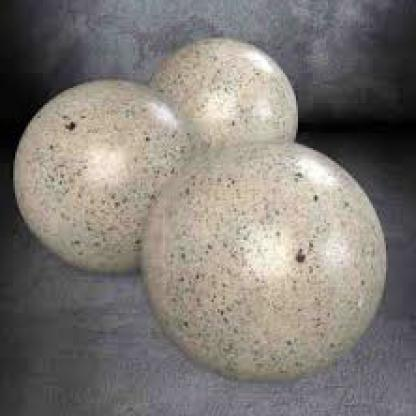Igneous_Diorite: (143, 146, 384, 382)
